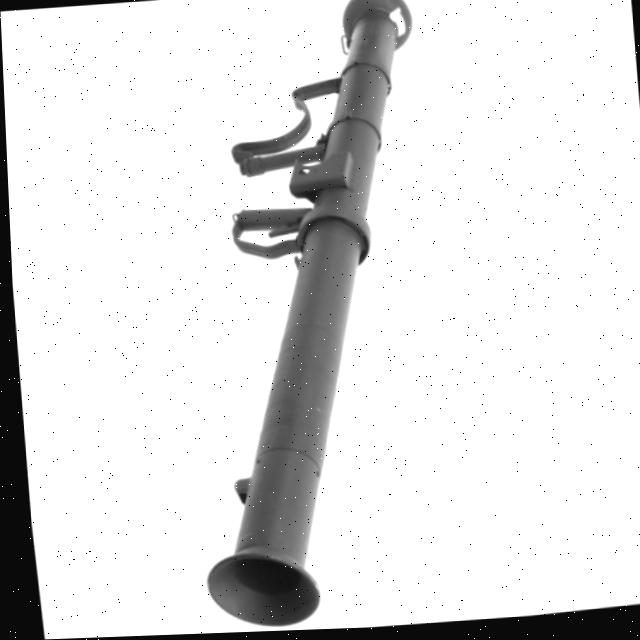rocket: (144, 0, 477, 634)
